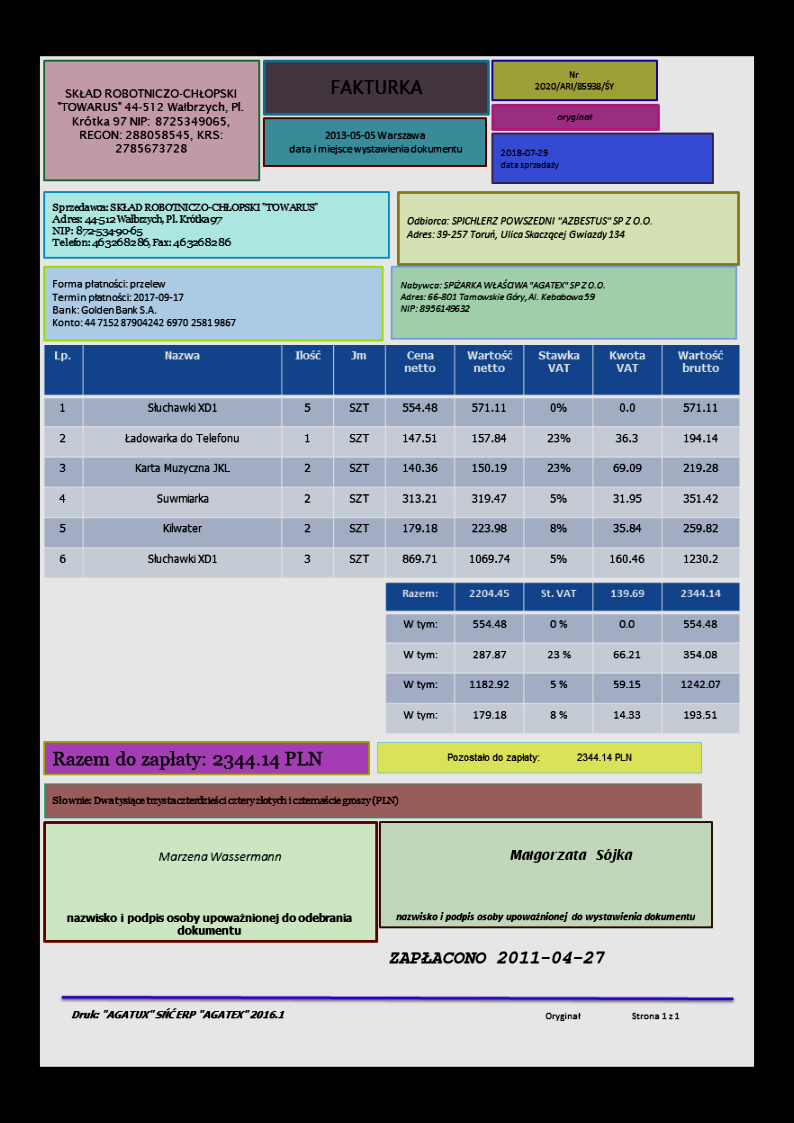Table: (42, 343, 742, 581), (384, 581, 741, 735)
TextBox: (50, 199, 320, 251), (56, 86, 246, 157), (50, 276, 237, 329), (397, 277, 608, 316), (63, 909, 356, 937), (403, 212, 654, 244), (51, 743, 324, 772), (51, 791, 400, 810), (393, 908, 698, 924), (287, 129, 464, 155), (387, 948, 606, 968), (444, 747, 635, 765), (70, 1006, 286, 1021), (542, 1007, 683, 1025), (533, 66, 617, 94), (155, 847, 284, 865), (508, 845, 634, 863), (328, 76, 426, 98), (499, 145, 560, 172), (554, 109, 594, 125)
